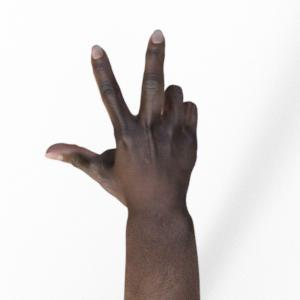scissors: (46, 31, 199, 300)
